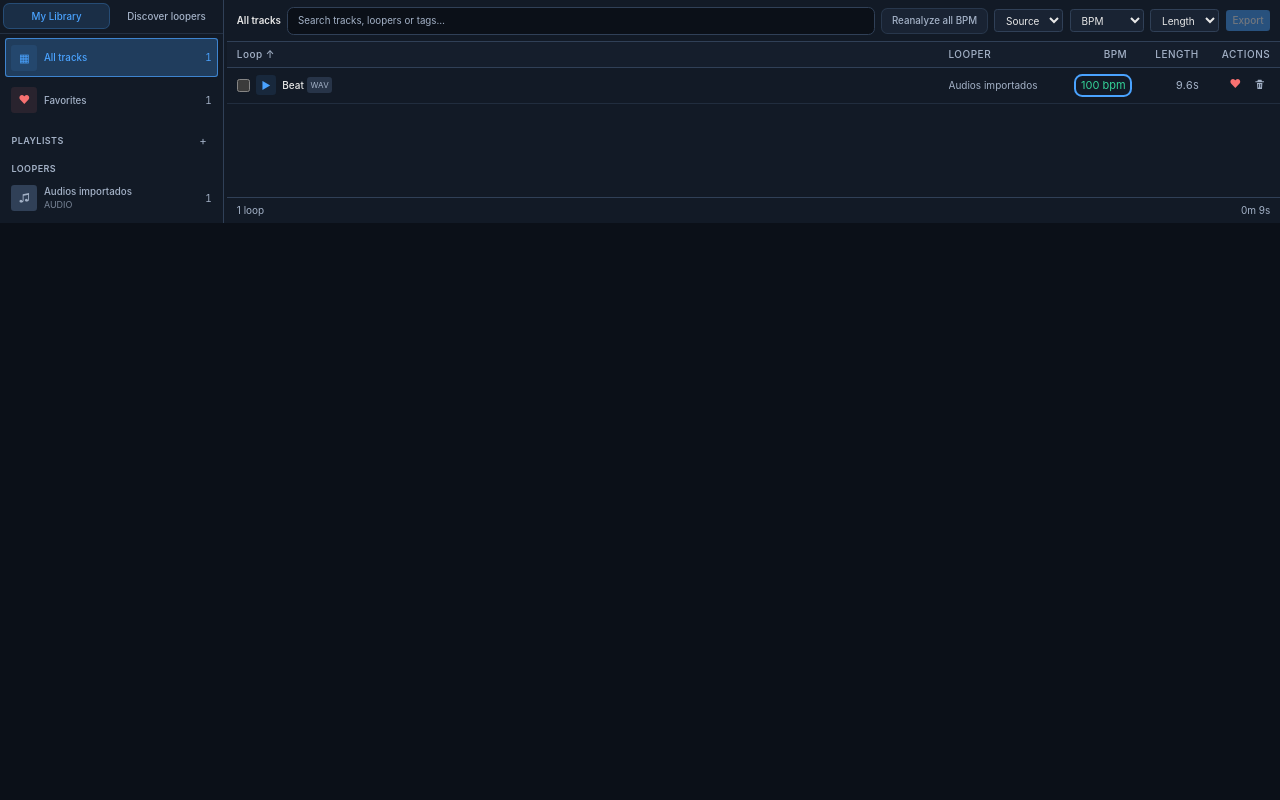
Test: preserves known manual BPMs without automatic preview
Double-click the button with aria-label "Edit BPM for Beat": (1103, 85) [1079,79,1127,92]
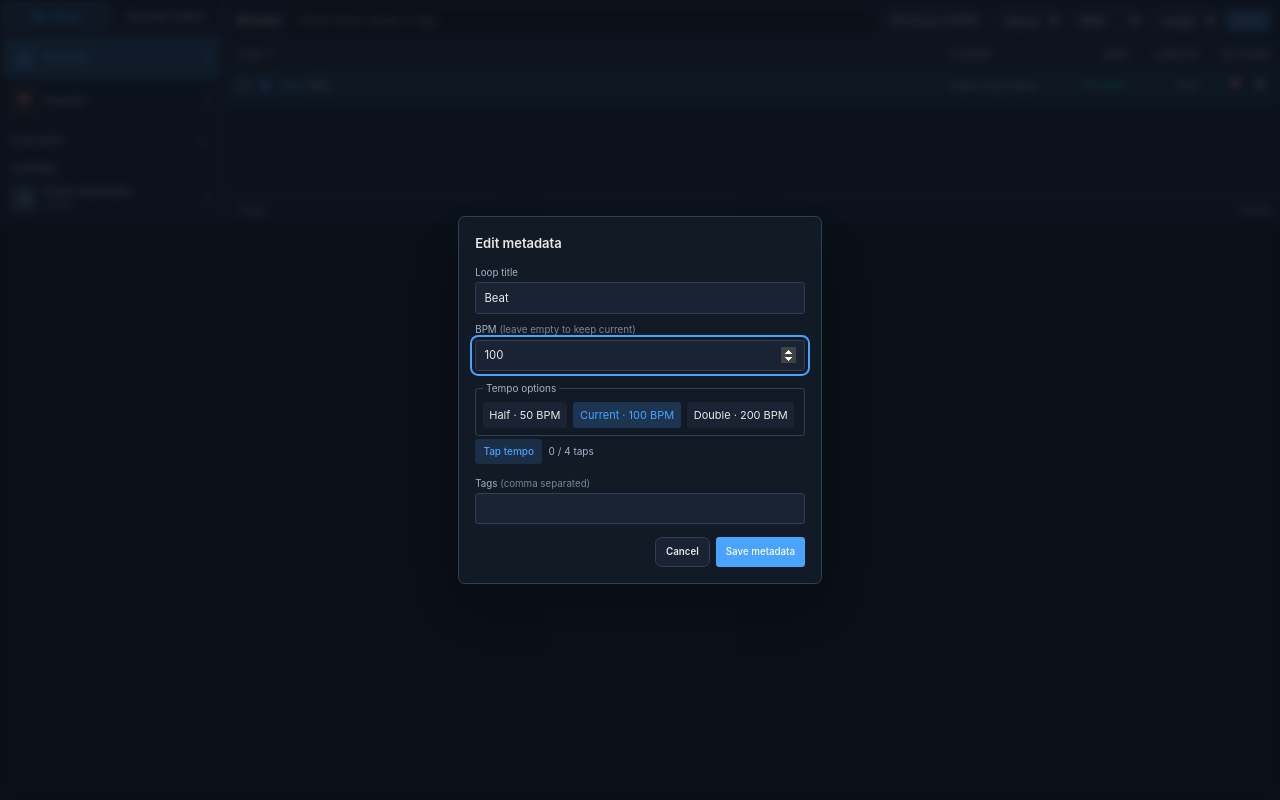
expect the button "Current · 100 BPM" is shown: met, box [573,402,681,428]
